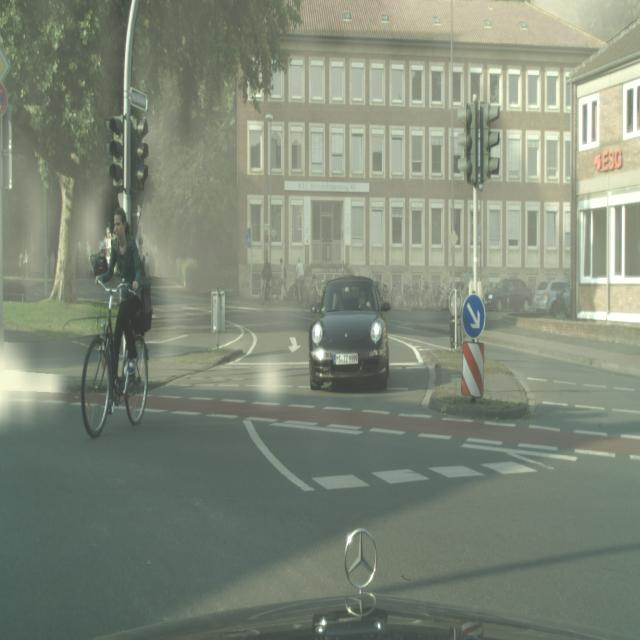car: (80, 279, 149, 438)
person: (94, 207, 142, 401), (261, 257, 273, 302), (295, 256, 305, 304)
truck: (309, 275, 390, 392), (484, 277, 533, 313), (534, 279, 570, 318)
